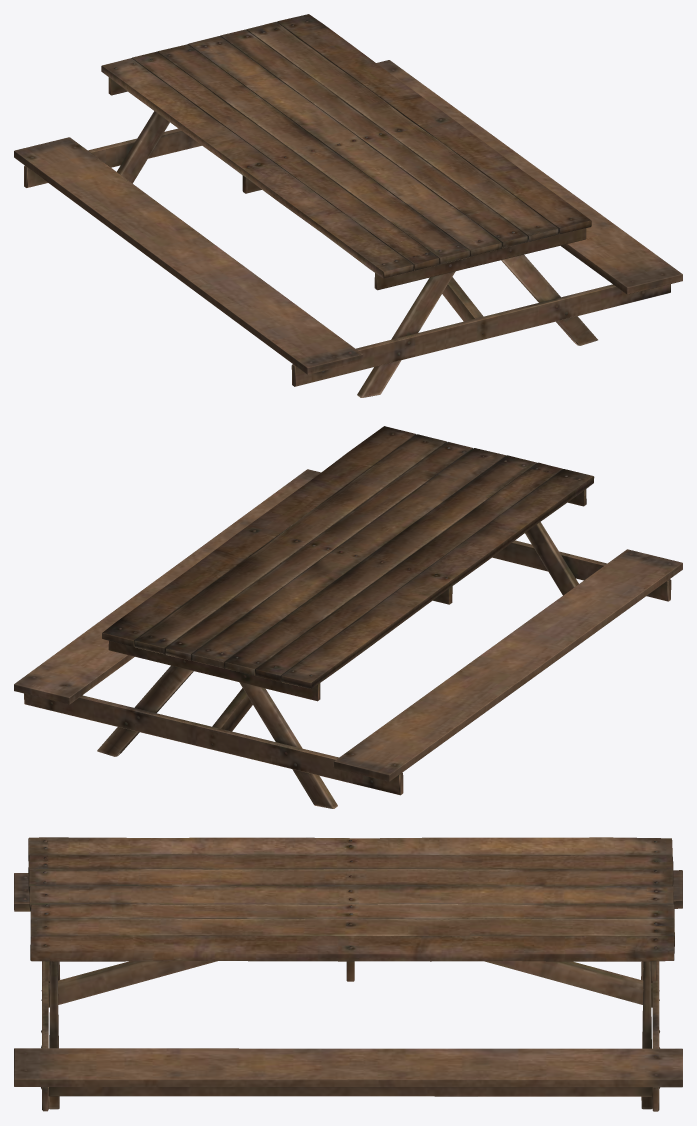
Rendered from ph_wooden_picnic_table.glb.
The picture shows the model from 3 angles, top to bottom: view 1: azimuth 30°, elevation 25°; view 2: azimuth 150°, elevation 25°; view 3: azimuth 270°, elevation 25°; orthographic projection. The views are drawn at different scales.
Parts seen in each view (by area): view 1: wooden_picnic_table; view 2: wooden_picnic_table; view 3: wooden_picnic_table.
Boxes of the visible parts, left/top/right/bottom form: wooden_picnic_table: left=14, top=14, right=682, bottom=397; wooden_picnic_table: left=14, top=426, right=682, bottom=808; wooden_picnic_table: left=14, top=837, right=682, bottom=1111.
Size of the model in its own units: 2.24 by 0.7462 by 3.02.
Materials: 2 (2 with a texture image).
